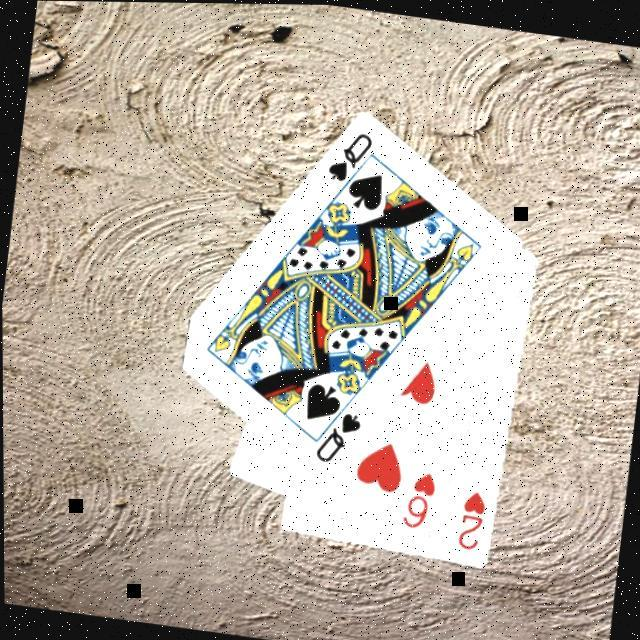2H: (451, 486, 489, 554)
6H: (395, 466, 439, 535)
QS: (308, 405, 364, 470), (321, 125, 375, 189)
